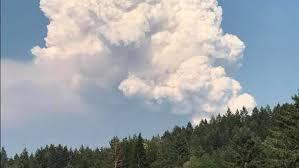yanwu: (35, 0, 258, 116)
